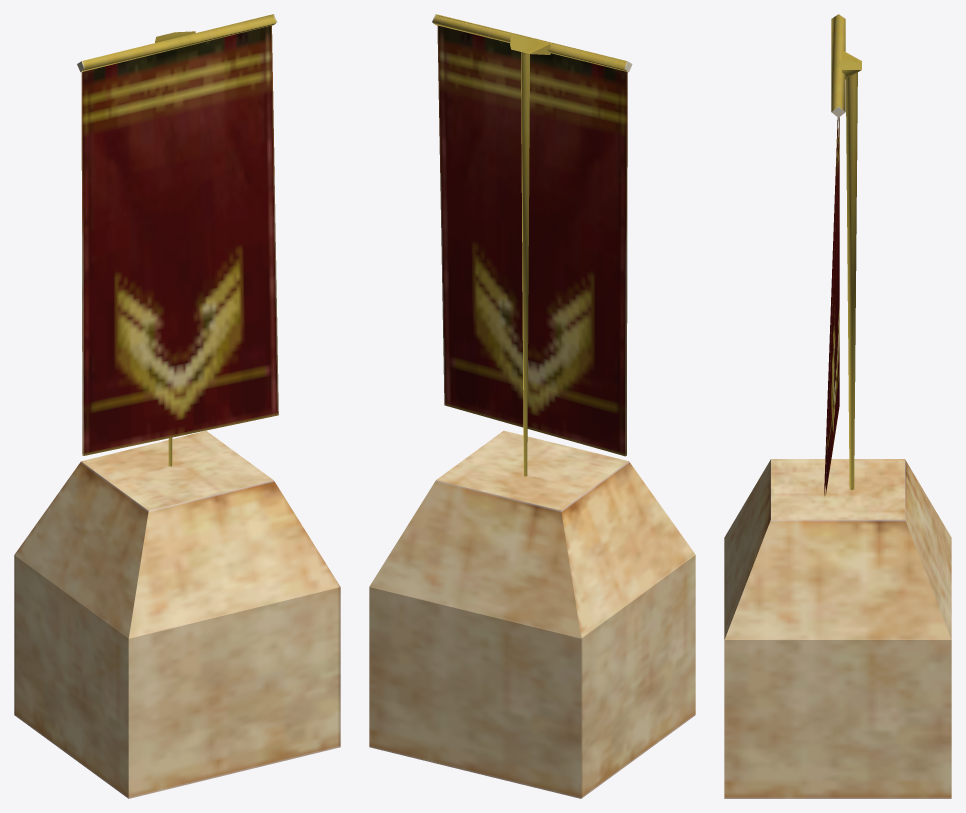
Rendered from thm_tato_guild_banner_freestand_s01_l2.fbx.
3 renders of one model, left to right at view 1: azimuth 30°, elevation 25°; view 2: azimuth 150°, elevation 25°; view 3: azimuth 270°, elevation 25°, orthographic.
Parts seen in each view (by area): view 1: mesh_node; view 2: mesh_node; view 3: mesh_node.
Boxes of the visible parts, box(x1,y1,x2,y2) form: mesh_node: box(14, 14, 340, 798); mesh_node: box(369, 14, 695, 798); mesh_node: box(724, 14, 951, 798).
Size of the model in its own units: 3.21 by 10.02 by 3.
1 material, 1 textured.
